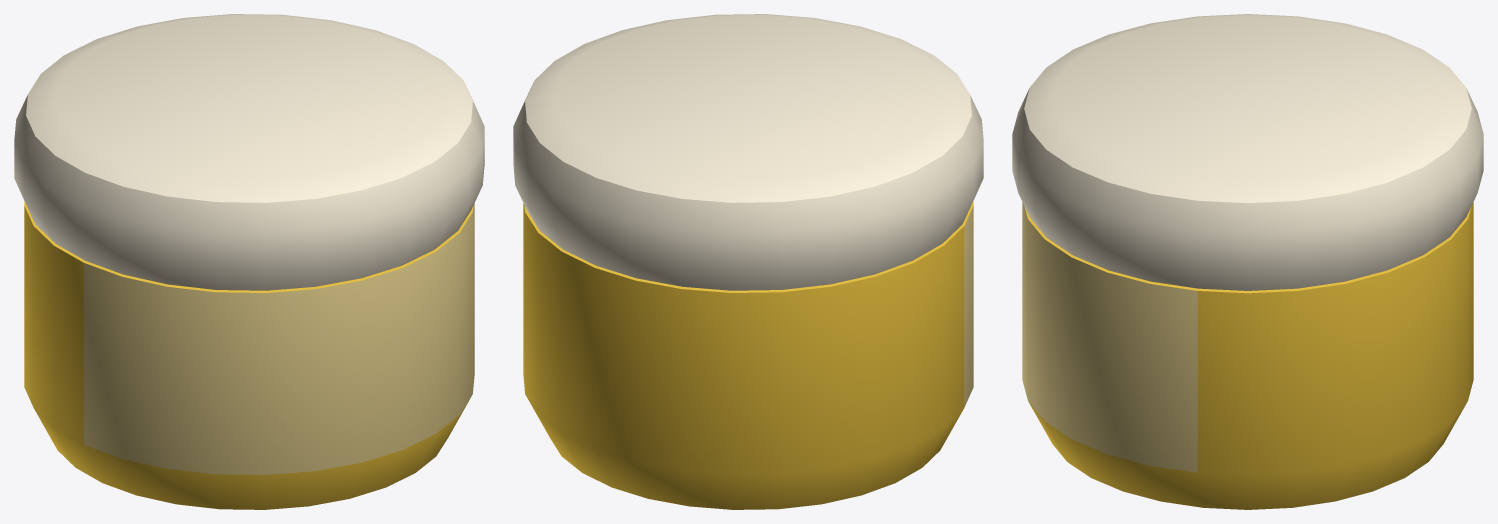
The model's file is pote_creme_amarelo.glb.
3 renders of one model, left to right at view 1: azimuth 30°, elevation 25°; view 2: azimuth 150°, elevation 25°; view 3: azimuth 270°, elevation 25°, orthographic.
Visible parts, largest first — view 1: pote_creme_amarelo; view 2: pote_creme_amarelo; view 3: pote_creme_amarelo.
Part boxes in pixels (x1,y1,x2,y2): pote_creme_amarelo: (14,14,484,509); pote_creme_amarelo: (513,14,983,509); pote_creme_amarelo: (1012,14,1483,509).
Size of the model in its own units: 0.094 by 0.072 by 0.094.
1 material, 1 textured.
